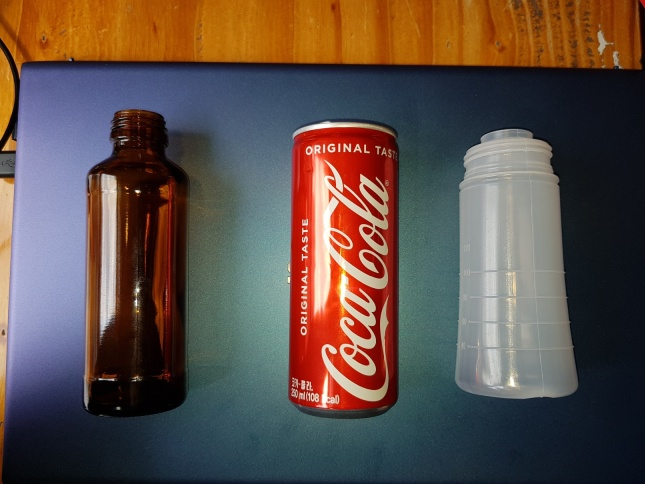Can: (283, 119, 400, 420)
Glass: (78, 107, 190, 421)
Plastic: (447, 123, 580, 405)
